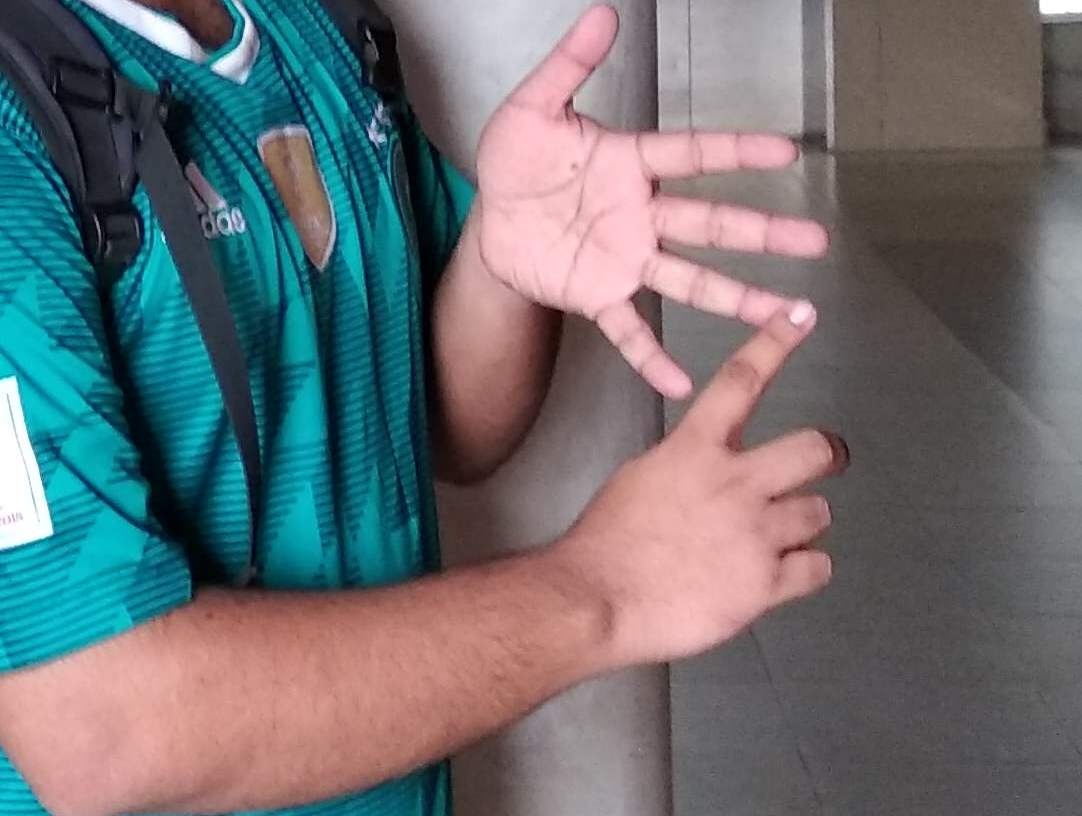e: (565, 84, 833, 542)
